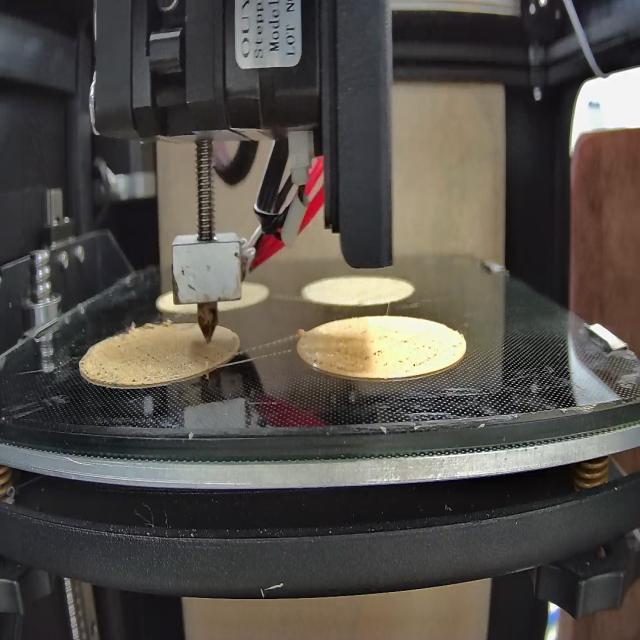under_extrusion: (359, 327, 451, 378), (83, 345, 164, 389), (308, 350, 329, 370)
